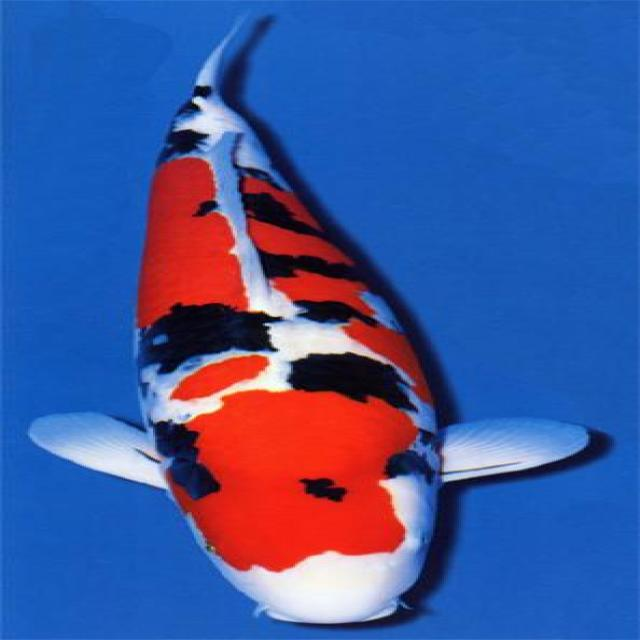Sanke: (26, 10, 590, 625)
